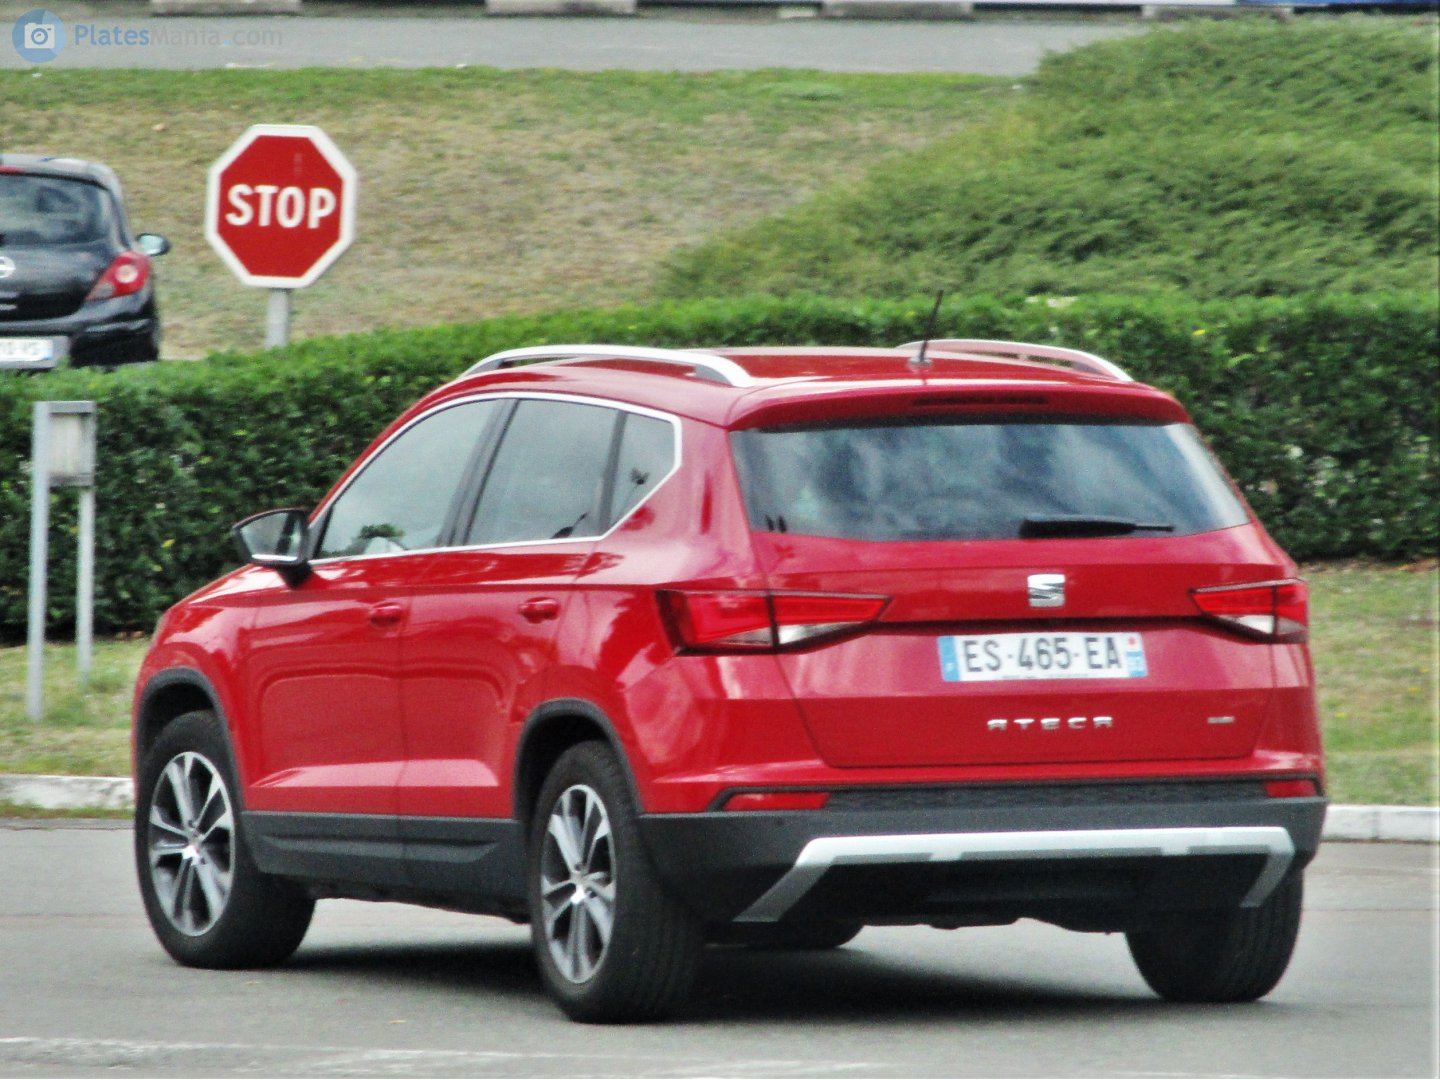licence plate: (933, 624, 1153, 687)
